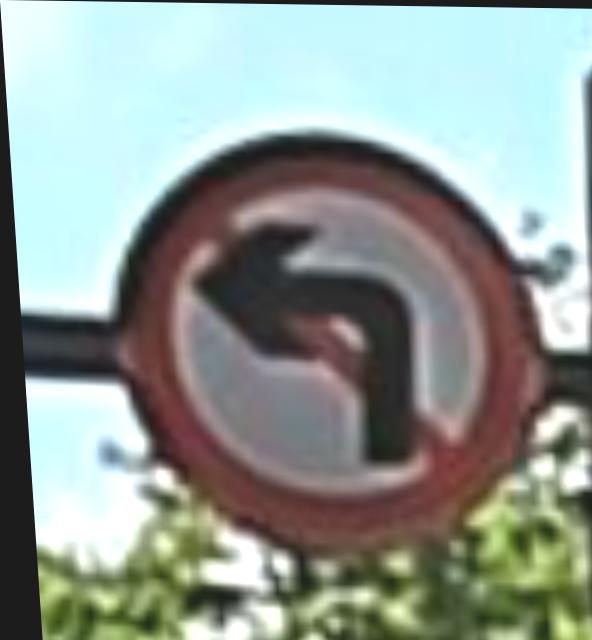not_turn_left: (85, 120, 561, 541)
